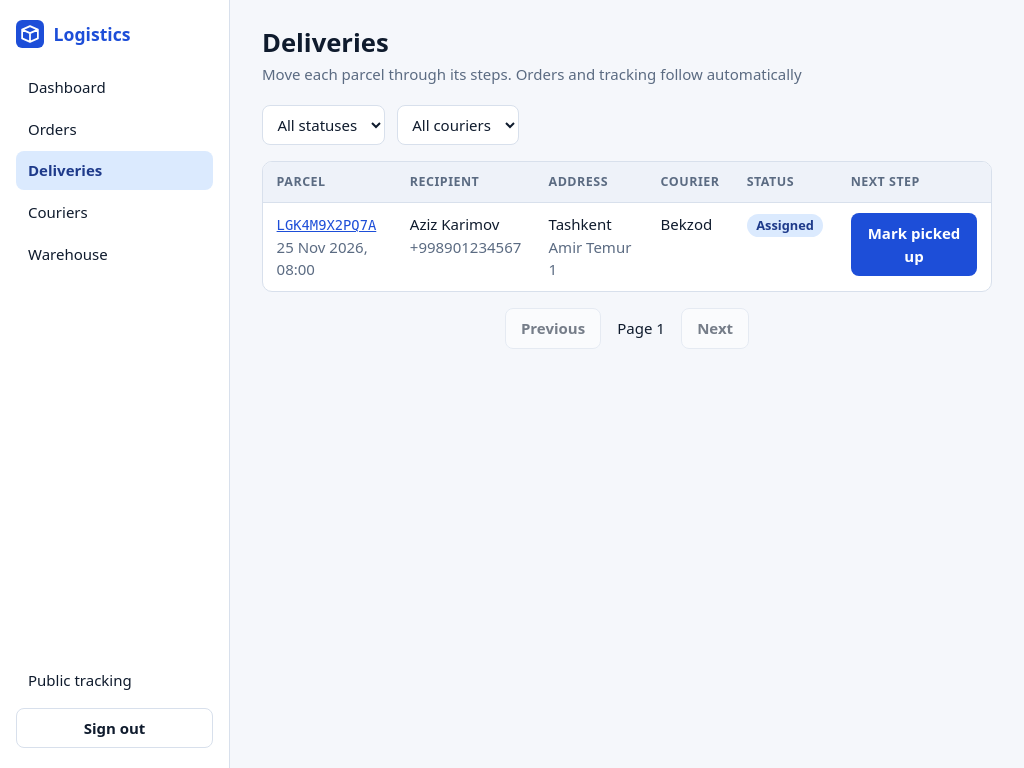
Test: deliveries › shows the server message when a step is refused
Click the button "Mark picked up": (914, 245) [851,213,977,276]
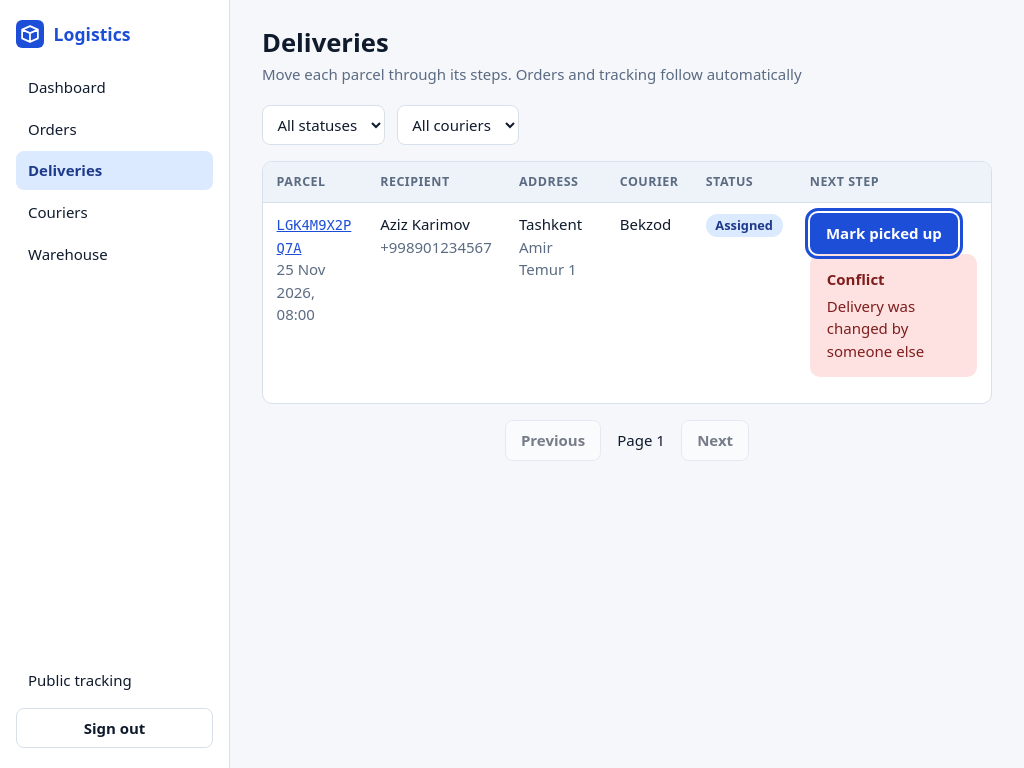
Check: the text "Delivery was changed by someone else" is shown, box [827,296,924,361]
